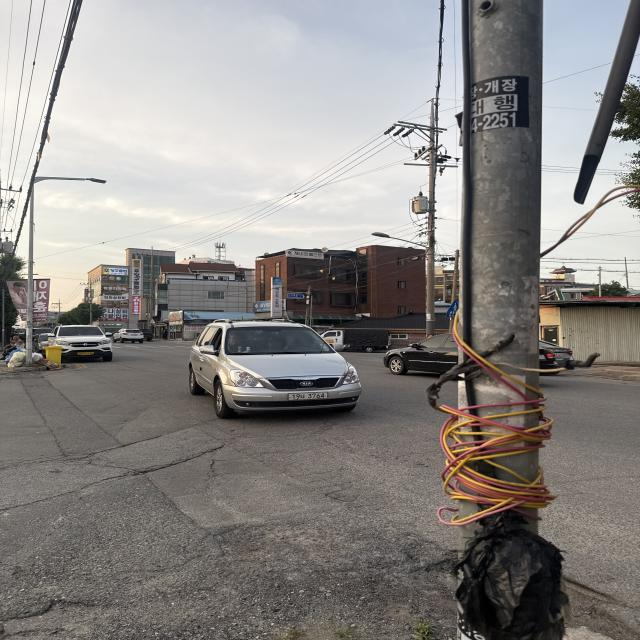car: (188, 314, 361, 418), (402, 333, 523, 378), (48, 322, 115, 367), (115, 322, 152, 346)
